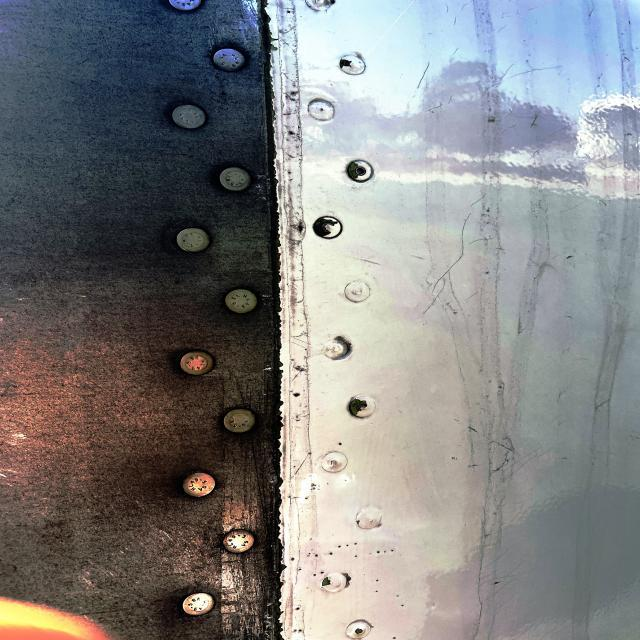crack: (414, 207, 473, 322), (472, 416, 534, 491)
